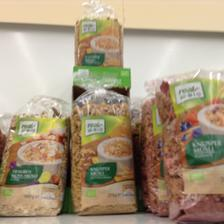Cerealien: (152, 70, 224, 218), (0, 95, 68, 215), (69, 89, 134, 211), (72, 11, 124, 67)
